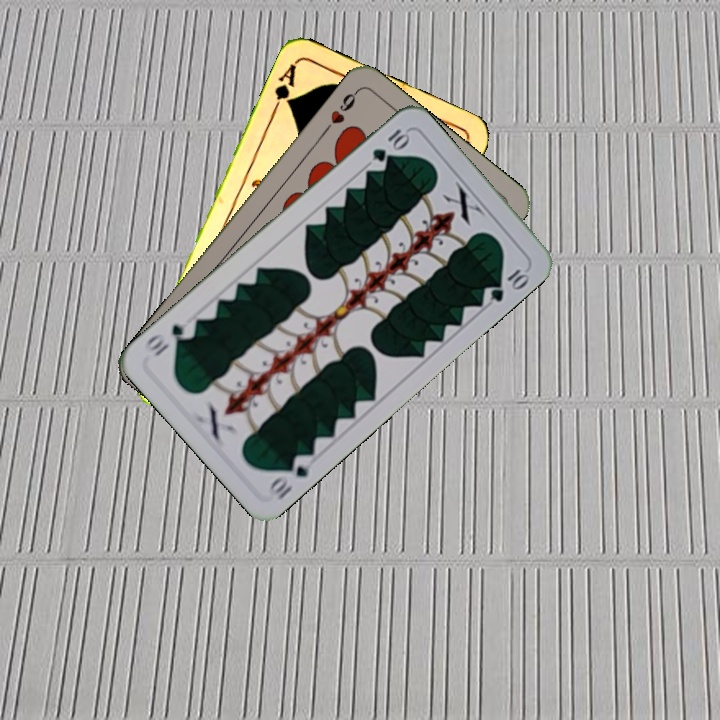G10: (264, 450, 316, 502), (368, 124, 412, 165)
GA: (268, 59, 299, 115)
H9: (319, 86, 361, 136)
